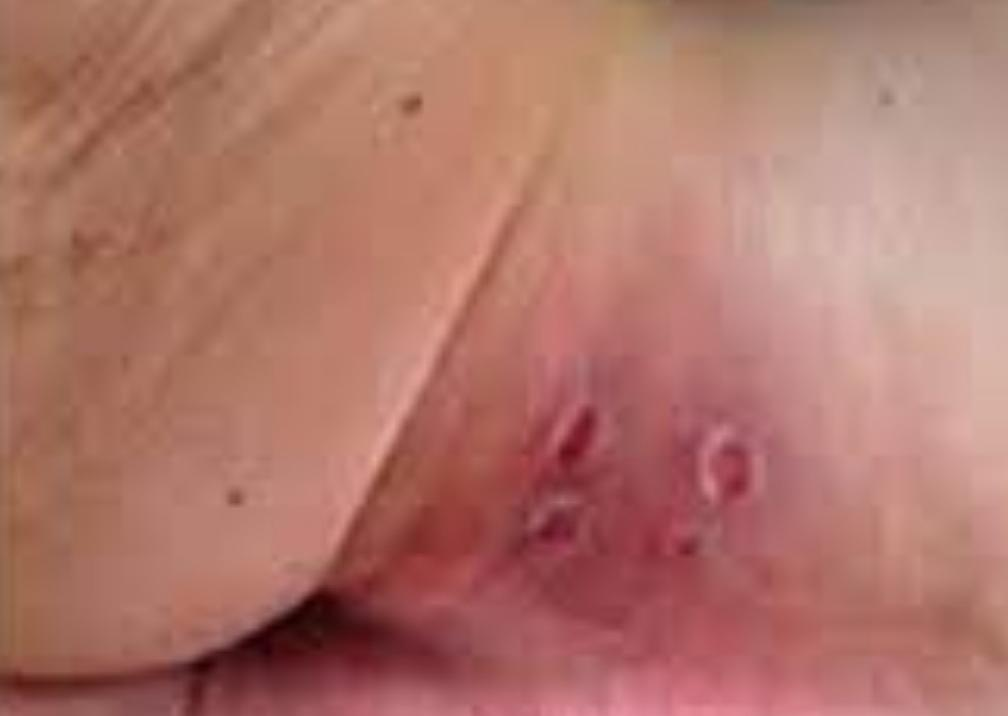Stage2: (476, 392, 812, 680)
